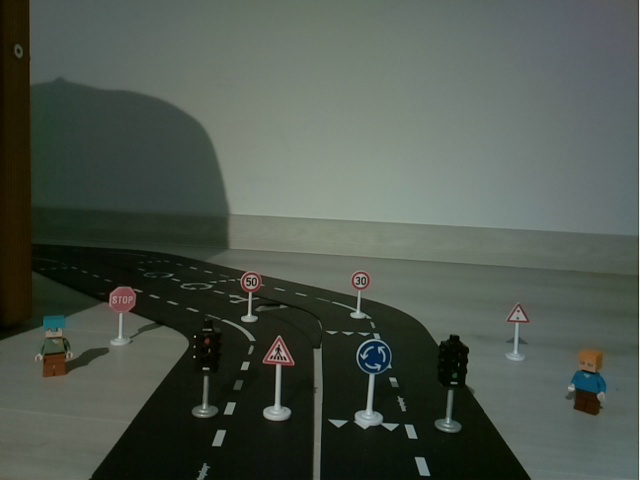green light: (427, 328, 477, 442)
limit 30: (346, 267, 374, 325)
limit 50: (236, 268, 268, 324)
pedestrian sign: (259, 331, 299, 423)
person: (564, 340, 615, 423), (30, 309, 81, 383)
red light: (189, 320, 226, 423)
round: (346, 336, 397, 434)
stop: (103, 280, 140, 352)
traffic light sign: (497, 296, 538, 369)
